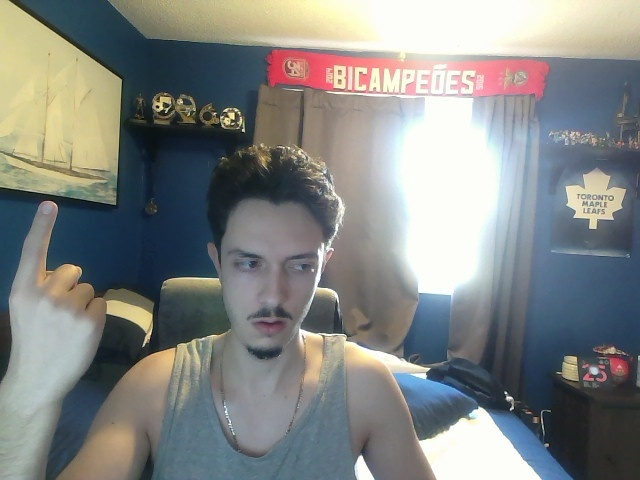Up: (7, 200, 107, 402)
